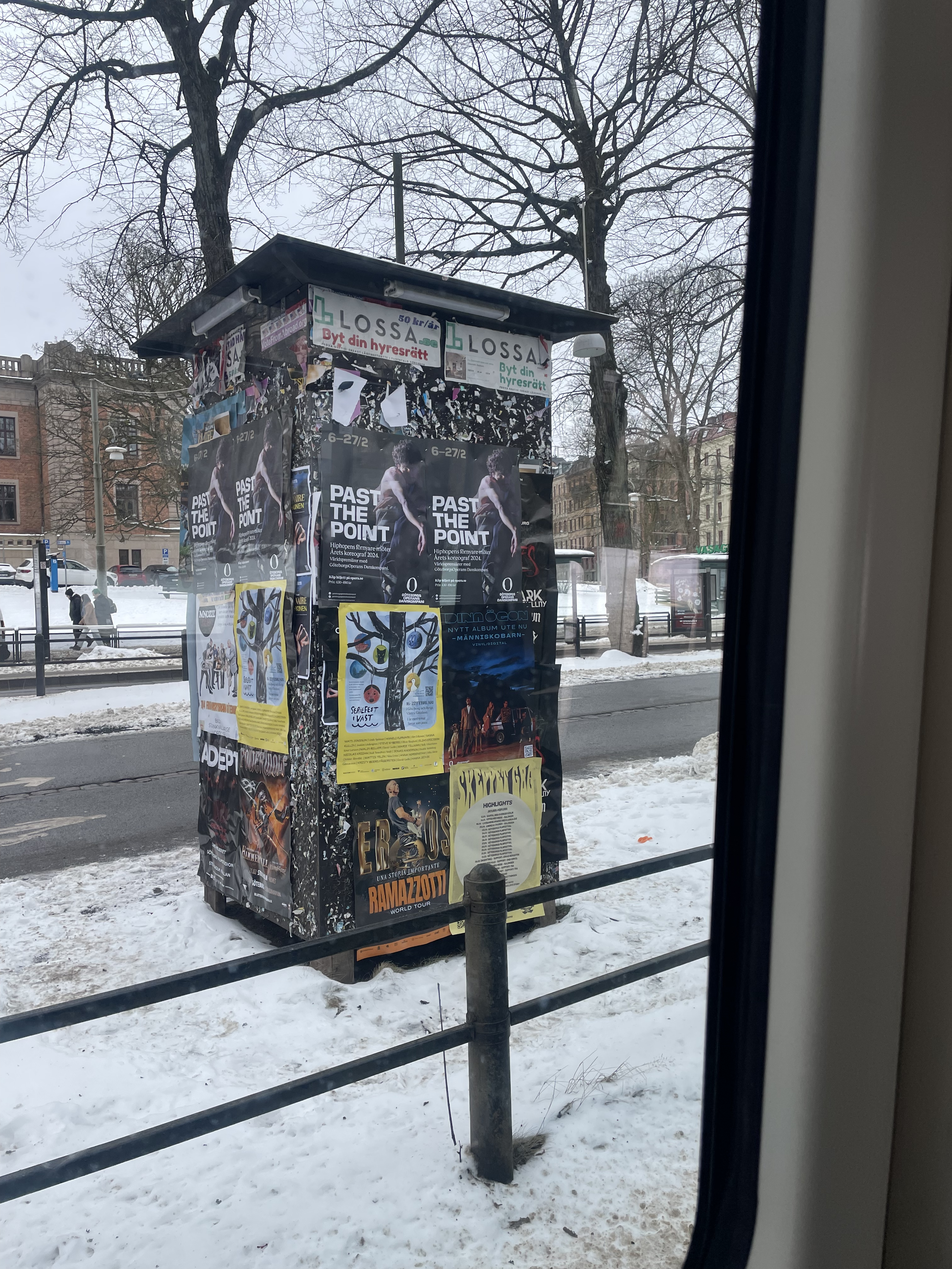advertisement: (337, 603, 443, 785), (323, 422, 427, 607), (352, 772, 450, 961), (450, 758, 543, 935), (428, 437, 521, 606), (442, 601, 532, 772), (234, 403, 296, 588), (313, 286, 442, 369), (235, 579, 289, 754), (238, 743, 292, 918), (176, 430, 233, 591), (446, 320, 552, 399), (198, 730, 238, 899), (196, 590, 238, 741)
